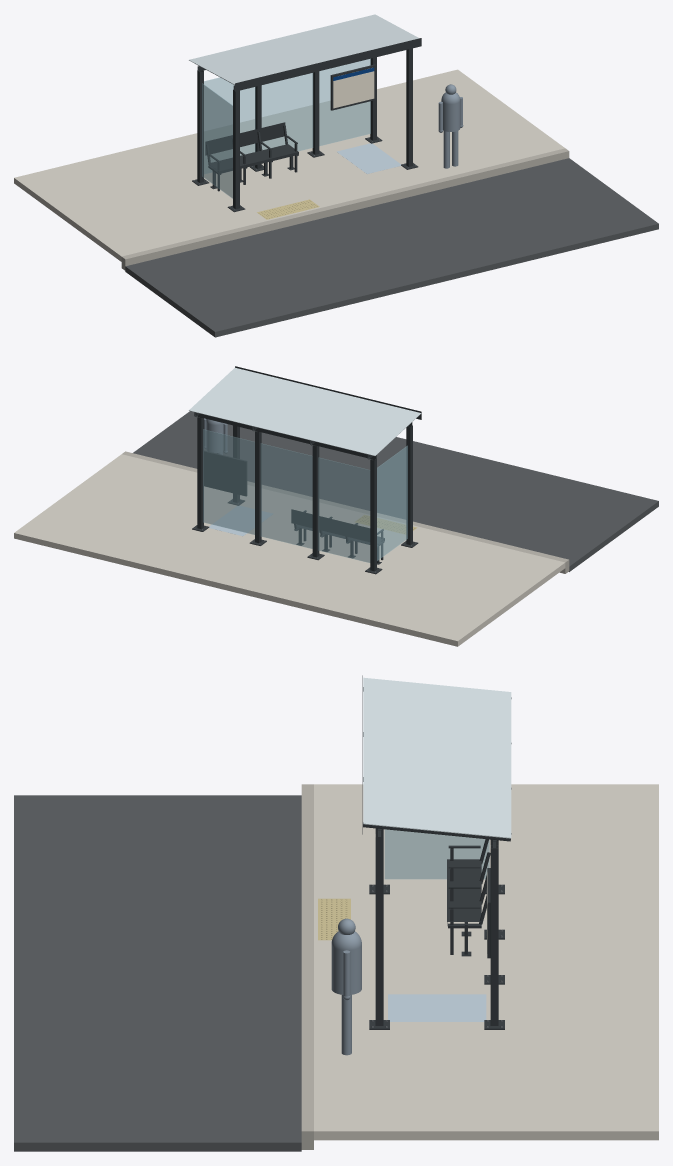
The model's file is essencial.glb.
3 views of the same model, one above another, from view 1: azimuth 30°, elevation 25°; view 2: azimuth 150°, elevation 25°; view 3: azimuth 270°, elevation 25° (orthographic). The views are drawn at different scales.
Visible parts, largest first — view 1: A0-faixa-01, A0-passeio-01, A2.1-cobertura-01, A0-lancil-01, A3.1-vidro-costas-02, A3.1-vidro-lateral-01, A3.1-vidro-costas-01, A3.1-vidro-costas-03, A4.2-banco-assento-01, A1.4-remate-frontal-01, A0-figura-01, A4.3-painel-cartaz-01 (+7 smaller); view 2: A0-passeio-01, A0-faixa-01, A2.1-cobertura-01, A3.1-vidro-costas-01, A3.1-vidro-costas-02, A3.1-vidro-costas-03, A3.1-vidro-lateral-01, A0-lancil-01, A4.3-painel-informacao-01, A4.2-banco-assento-01, A0-zona-cadeira-rodas-01, A1.1-pilar-01 (+9 smaller); view 3: A0-faixa-01, A0-passeio-01, A2.1-cobertura-01, A0-lancil-01, A3.1-vidro-lateral-01, A0-zona-cadeira-rodas-01, A0-figura-01, A4.2-banco-assento-01, A1.1-pilar-02, A1.1-pilar-06, A4.1-banco-estrutura-01, A0-piso-tatil-01.
Boxes of the visible parts, left/top/right/bottom form: A0-faixa-01: left=125, top=158, right=658, bottom=337; A0-passeio-01: left=14, top=69, right=564, bottom=261; A2.1-cobertura-01: left=189, top=14, right=418, bottom=84; A0-lancil-01: left=121, top=148, right=569, bottom=270; A3.1-vidro-costas-02: left=261, top=73, right=313, bottom=151; A3.1-vidro-lateral-01: left=202, top=83, right=232, bottom=198; A3.1-vidro-costas-01: left=204, top=77, right=255, bottom=173; A3.1-vidro-costas-03: left=319, top=58, right=370, bottom=145; A4.2-banco-assento-01: left=205, top=122, right=298, bottom=173; A1.4-remate-frontal-01: left=235, top=38, right=421, bottom=91; A0-figura-01: left=438, top=84, right=463, bottom=168; A4.3-painel-cartaz-01: left=333, top=71, right=374, bottom=108; A0-passeio-01: left=14, top=454, right=565, bottom=646; A0-faixa-01: left=133, top=411, right=658, bottom=571; A2.1-cobertura-01: left=189, top=367, right=421, bottom=455; A3.1-vidro-costas-01: left=318, top=457, right=370, bottom=562; A3.1-vidro-costas-02: left=260, top=443, right=312, bottom=548; A3.1-vidro-costas-03: left=203, top=429, right=254, bottom=534; A3.1-vidro-lateral-01: left=377, top=445, right=407, bottom=560; A0-lancil-01: left=122, top=451, right=569, bottom=573; A4.3-painel-informacao-01: left=204, top=450, right=246, bottom=496; A4.2-banco-assento-01: left=291, top=509, right=384, bottom=544; A0-zona-cadeira-rodas-01: left=209, top=505, right=272, bottom=536; A1.1-pilar-01: left=406, top=425, right=412, bottom=544; A0-faixa-01: left=14, top=795, right=301, bottom=1151; A0-passeio-01: left=314, top=784, right=658, bottom=1140; A2.1-cobertura-01: left=363, top=677, right=511, bottom=838; A0-lancil-01: left=301, top=784, right=313, bottom=1149; A3.1-vidro-lateral-01: left=384, top=829, right=489, bottom=879; A0-zona-cadeira-rodas-01: left=388, top=994, right=486, bottom=1021; A0-figura-01: left=331, top=918, right=361, bottom=1055; A4.2-banco-assento-01: left=447, top=859, right=481, bottom=925; A1.1-pilar-02: left=375, top=834, right=383, bottom=1025; A1.1-pilar-06: left=490, top=845, right=498, bottom=1025; A4.1-banco-estrutura-01: left=448, top=839, right=490, bottom=956; A0-piso-tatil-01: left=318, top=898, right=350, bottom=940.
Bounding box in the file's own units: 10000 × 3452 × 7850.
